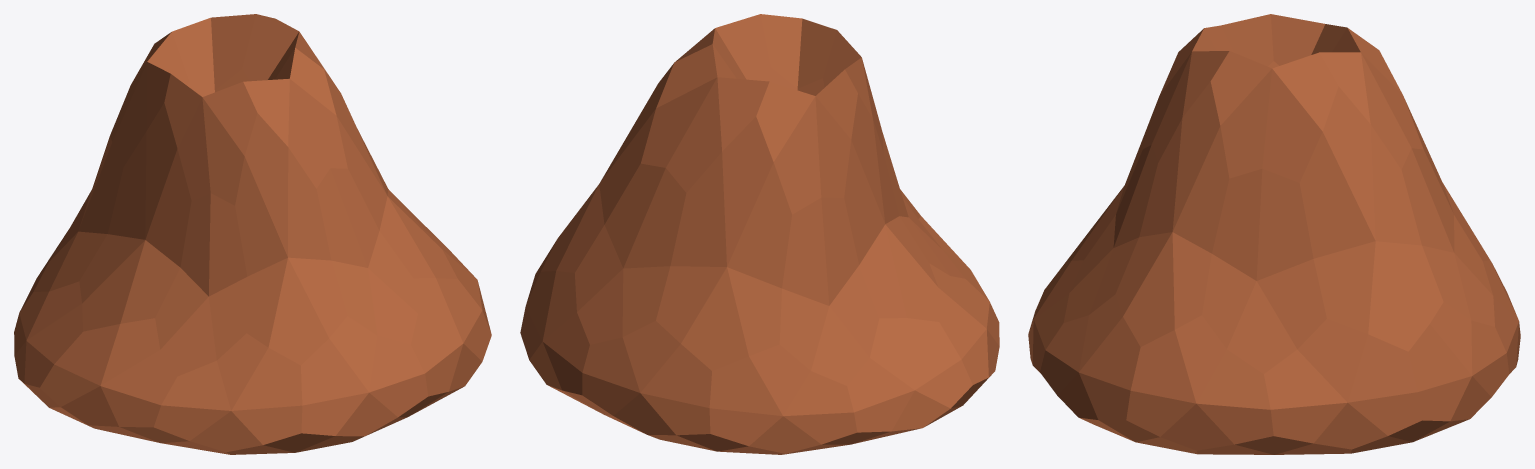
Rendered from Vulcano Small 3.fbx.
3 renders of one model, left to right at view 1: azimuth 30°, elevation 25°; view 2: azimuth 150°, elevation 25°; view 3: azimuth 270°, elevation 25°, orthographic. The views are drawn at different scales.
Parts seen in each view (by area): view 1: Icosphere.003; view 2: Icosphere.003; view 3: Icosphere.003.
Part boxes in pixels (x1=…): Icosphere.003: x1=14, y1=14, x2=491, y2=454; Icosphere.003: x1=520, y1=14, x2=999, y2=454; Icosphere.003: x1=1028, y1=14, x2=1520, y2=454.
Bounding box in the file's own units: 266 × 199 × 264.
